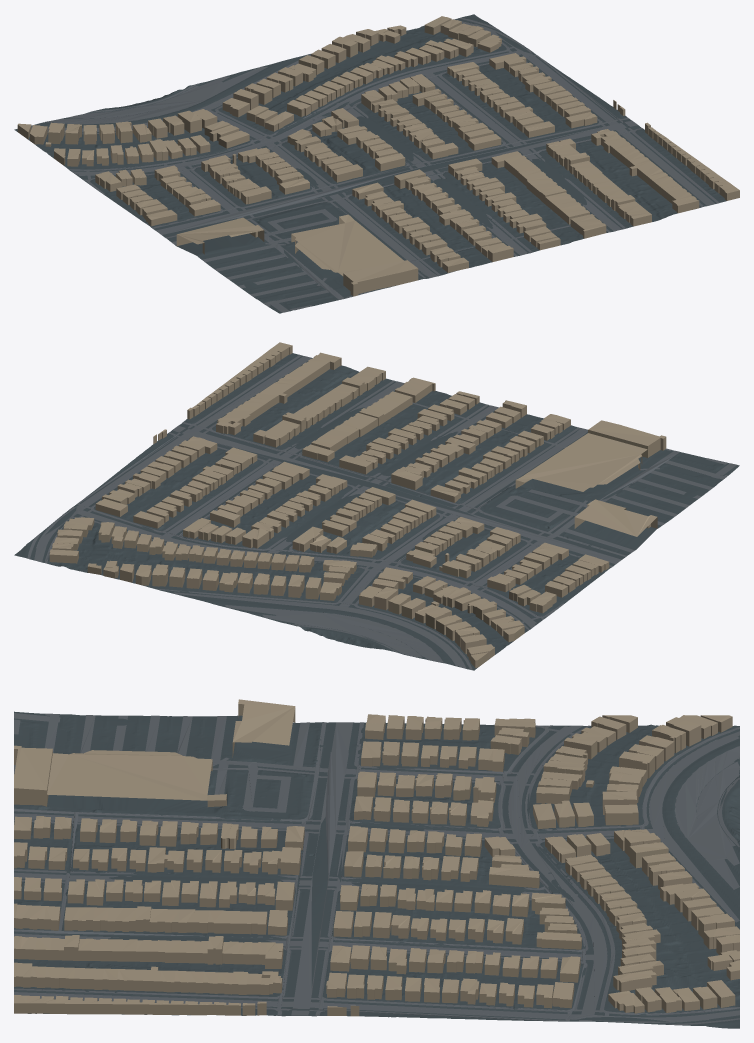
File: epsg26910-1419-10875.lod0.glb
The picture shows the model from 3 angles, top to bottom: view 1: azimuth 30°, elevation 25°; view 2: azimuth 150°, elevation 25°; view 3: azimuth 270°, elevation 25°; orthographic projection. The views are drawn at different scales.
Visible parts, largest first — view 1: epsg26910-1419-10875-lod0; view 2: epsg26910-1419-10875-lod0; view 3: epsg26910-1419-10875-lod0.
Boxes of the visible parts, x1=… form: epsg26910-1419-10875-lod0: x1=14, y1=14, x2=739, y2=313; epsg26910-1419-10875-lod0: x1=14, y1=342, x2=739, y2=670; epsg26910-1419-10875-lod0: x1=14, y1=699, x2=739, y2=1028.
Size of the model in its own units: 384 by 21.62 by 384.
